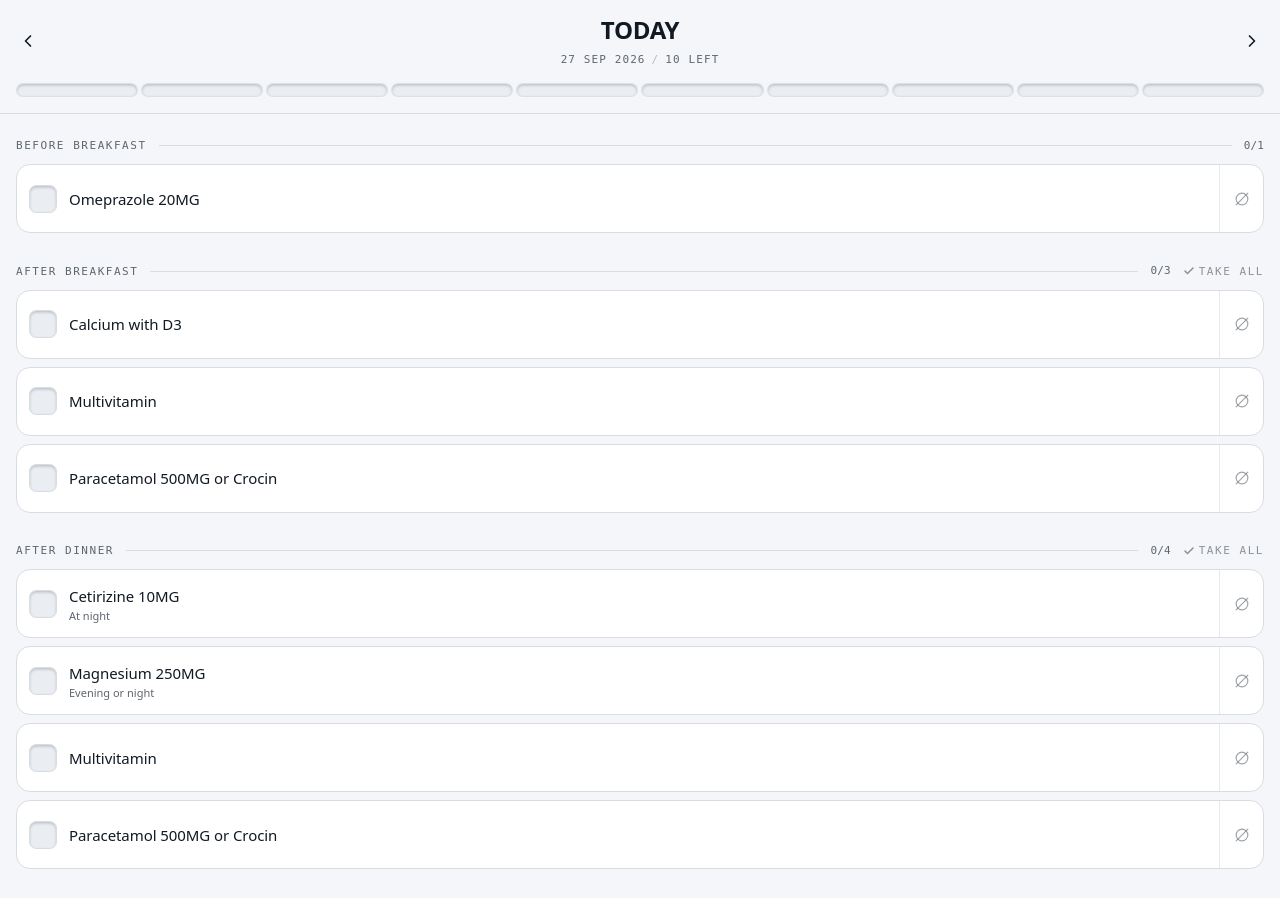
it: the Today screen › shows a day ahead as a plan rather than something to tick
This screenshot has width=1280, height=898.
Click the button named "next day" at (1252,41), box [1236,25,1268,57]
(page scrolled)
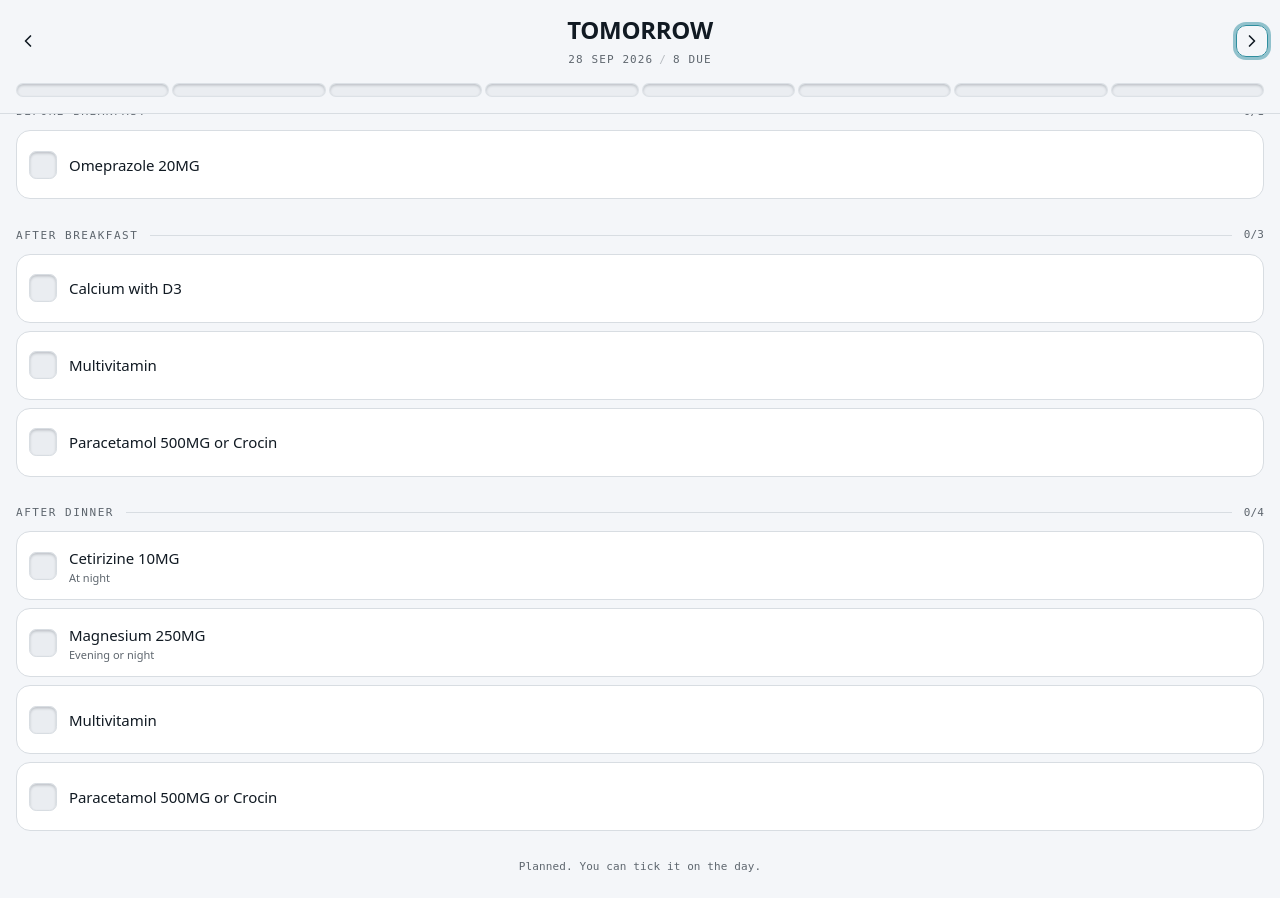
Expected: the text "Omeprazole 20MG" is shown, [69,152,200,176]
Expected: the text "Planned. You can tick it on the day." is shown, [519,860,761,873]
